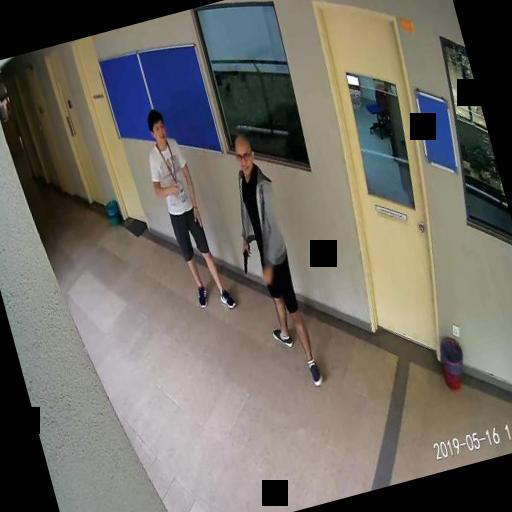Handgun: (236, 240, 254, 272)
